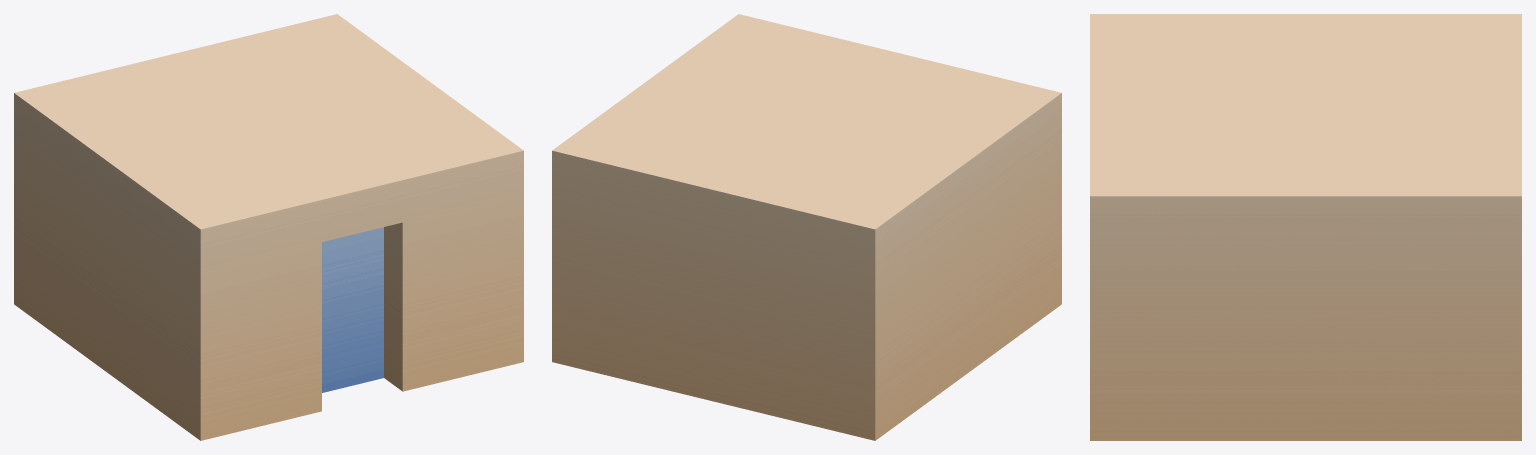
The model's file is building-door.glb.
3 renders of one model, left to right at view 1: azimuth 30°, elevation 25°; view 2: azimuth 150°, elevation 25°; view 3: azimuth 270°, elevation 25°, orthographic. The views are drawn at different scales.
Parts seen in each view (by area): view 1: building-door; view 2: building-door; view 3: building-door.
Part boxes in pixels (x1,y1,x2,y2): building-door: [14, 14, 523, 440]; building-door: [552, 14, 1061, 440]; building-door: [1090, 14, 1521, 440].
Bounding box in the file's own units: 1 × 0.625 × 1.
1 material, 1 textured.
